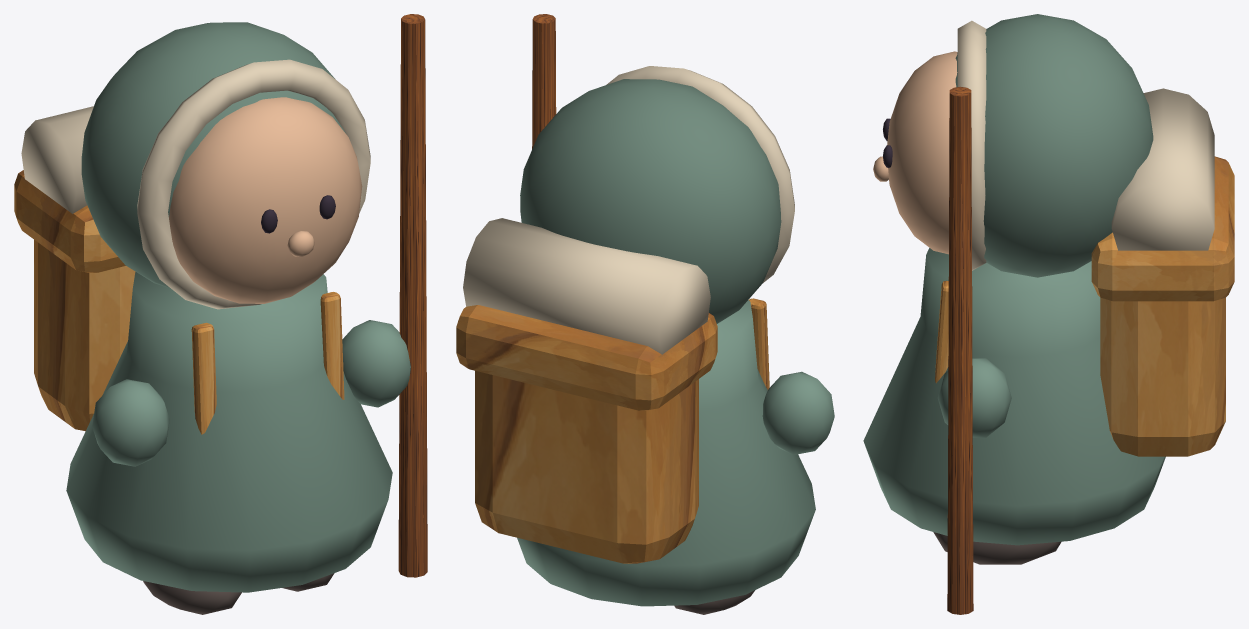
Rendered from winter_traveler.glb.
3 renders of one model, left to right at view 1: azimuth 30°, elevation 25°; view 2: azimuth 150°, elevation 25°; view 3: azimuth 270°, elevation 25°, orthographic. The views are drawn at different scales.
Visible parts, largest first — view 1: Winter coat with broad folds, Guest face, Rounded hood, Walking staff, Soft fur hood opening, Beveled leather backpack, Backpack flap, Guest mitten, Rolled travel blanket, Guest mitten.001, Backpack shoulder strap, Backpack shoulder strap.001 (+2 smaller); view 2: Rounded hood, Beveled leather backpack, Winter coat with broad folds, Rolled travel blanket, Backpack flap, Guest mitten, Soft fur hood opening, Walking staff, Backpack shoulder strap, Guest boot; view 3: Winter coat with broad folds, Rounded hood, Beveled leather backpack, Walking staff, Rolled travel blanket, Guest face, Backpack flap, Soft fur hood opening, Guest mitten.001, Guest boot.001, Backpack shoulder strap.001.
Boxes of the visible parts, <box> form: Winter coat with broad folds: <box>66,272,392,592</box>; Guest face: <box>169,97,362,303</box>; Rounded hood: <box>81,22,345,288</box>; Walking staff: <box>398,14,427,577</box>; Soft fur hood opening: <box>137,59,370,309</box>; Beveled leather backpack: <box>34,239,135,431</box>; Backpack flap: <box>14,170,125,272</box>; Guest mitten: <box>92,379,169,466</box>; Rolled travel blanket: <box>21,106,93,213</box>; Guest mitten.001: <box>342,320,410,407</box>; Backpack shoulder strap: <box>191,322,216,434</box>; Backpack shoulder strap.001: <box>320,292,344,399</box>; Rounded hood: <box>520,79,781,323</box>; Beveled leather backpack: <box>475,371,698,563</box>; Winter coat with broad folds: <box>517,300,815,606</box>; Rolled travel blanket: <box>463,218,710,354</box>; Backpack flap: <box>456,305,717,410</box>; Guest mitten: <box>762,371,834,454</box>; Soft fur hood opening: <box>606,66,794,282</box>; Walking staff: <box>532,14,556,149</box>; Backpack shoulder strap: <box>749,298,769,389</box>; Guest boot: <box>674,590,754,614</box>; Winter coat with broad folds: <box>863,248,1165,545</box>; Rounded hood: <box>955,14,1153,277</box>; Beveled leather backpack: <box>1100,297,1225,456</box>; Walking staff: <box>947,86,973,614</box>; Rolled travel blanket: <box>1111,88,1214,250</box>; Guest face: <box>887,51,957,254</box>; Backpack flap: <box>1091,156,1234,301</box>; Soft fur hood opening: <box>957,20,986,270</box>; Guest mitten.001: <box>937,358,1011,437</box>; Guest boot.001: <box>933,532,1061,564</box>; Backpack shoulder strap.001: <box>935,280,948,383</box>.
Size of the model in its own units: 0.6058 by 1 by 0.65.
8 materials, 2 textured.
